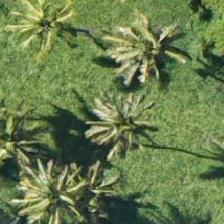coconut_tree: (80, 88, 170, 178), (96, 0, 186, 89), (13, 144, 103, 223), (0, 0, 86, 65), (0, 96, 48, 186)
